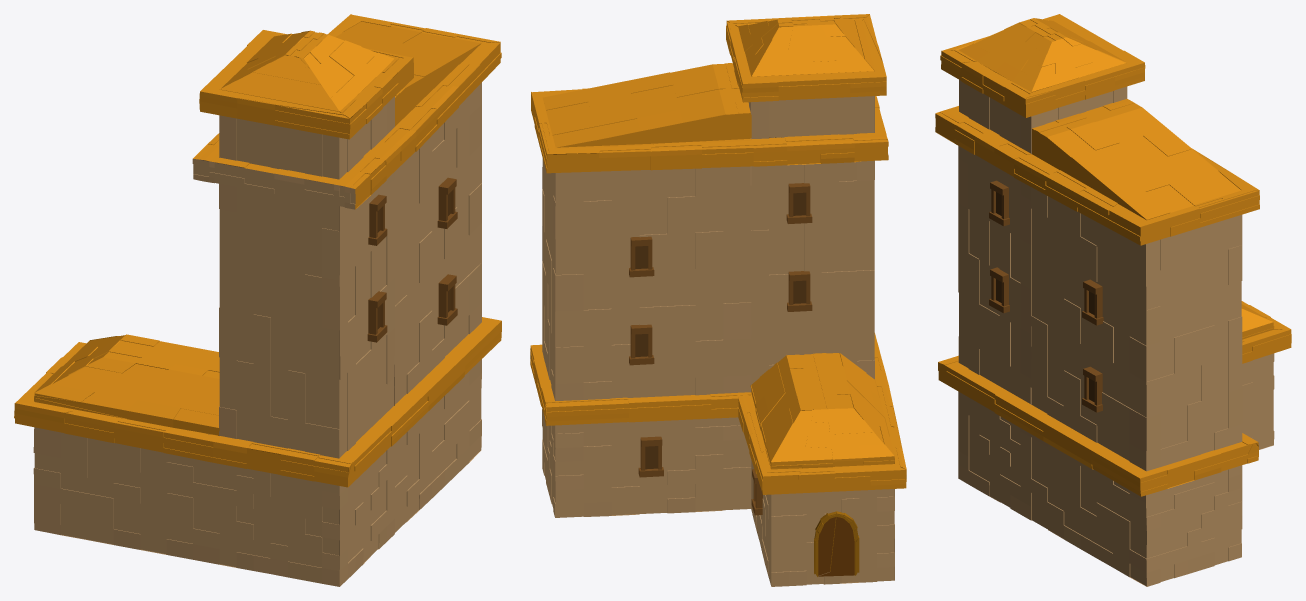
File: Apartment_Building_5.fbx
The picture shows the model from 3 angles, left to right: view 1: azimuth 30°, elevation 25°; view 2: azimuth 150°, elevation 25°; view 3: azimuth 270°, elevation 25°; orthographic projection. The views are drawn at different scales.
Visible parts, largest first — view 1: Cube.433, Cube.531, Cube.530, Cube.528, Cube.529; view 2: Cube.433, Cube.523, Cube.524, Cube.525, Cube.532, Cube.533, Cube.526; view 3: Cube.433, Cube.530, Cube.531, Cube.528, Cube.529.
Part boxes in pixels (x1,y1,x2,y2): Cube.433: (14,14,501,586); Cube.531: (437,274,457,325); Cube.530: (437,177,457,228); Cube.528: (367,291,387,342); Cube.529: (368,194,387,245); Cube.433: (530,14,906,586); Cube.523: (814,511,859,576); Cube.524: (786,183,812,223); Cube.525: (787,271,812,311); Cube.532: (629,324,654,365); Cube.533: (629,236,654,277); Cube.526: (638,436,663,477); Cube.433: (935,14,1291,586); Cube.530: (1082,279,1103,325); Cube.531: (1082,366,1102,412); Cube.528: (989,267,1009,313); Cube.529: (989,180,1009,226).
Size of the model in its own units: 1890 by 2025 by 1438.
